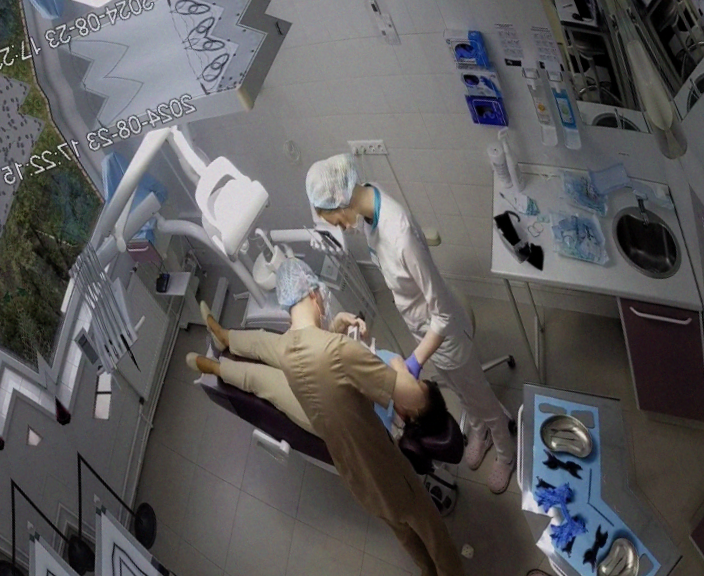Patient: (161, 222, 476, 549)
